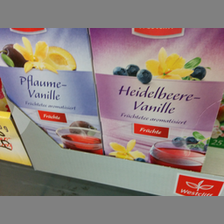tea: (88, 28, 224, 172), (1, 28, 104, 154)
